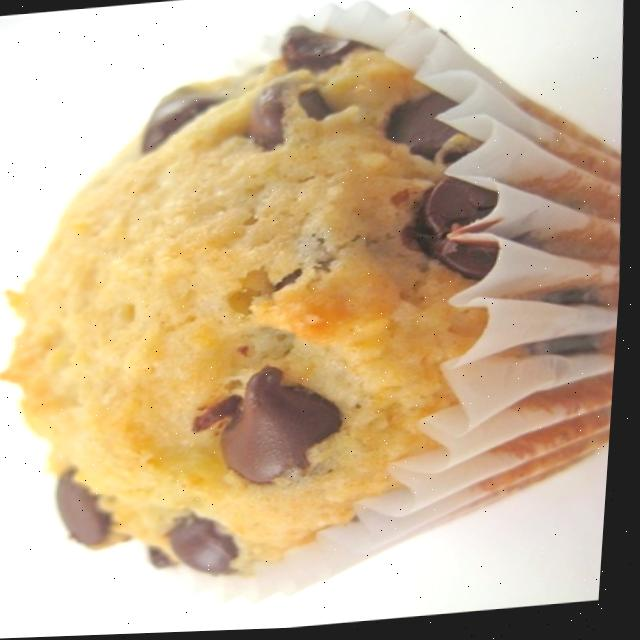炸货点心: (0, 0, 639, 614)
面包点心: (0, 0, 639, 614)
